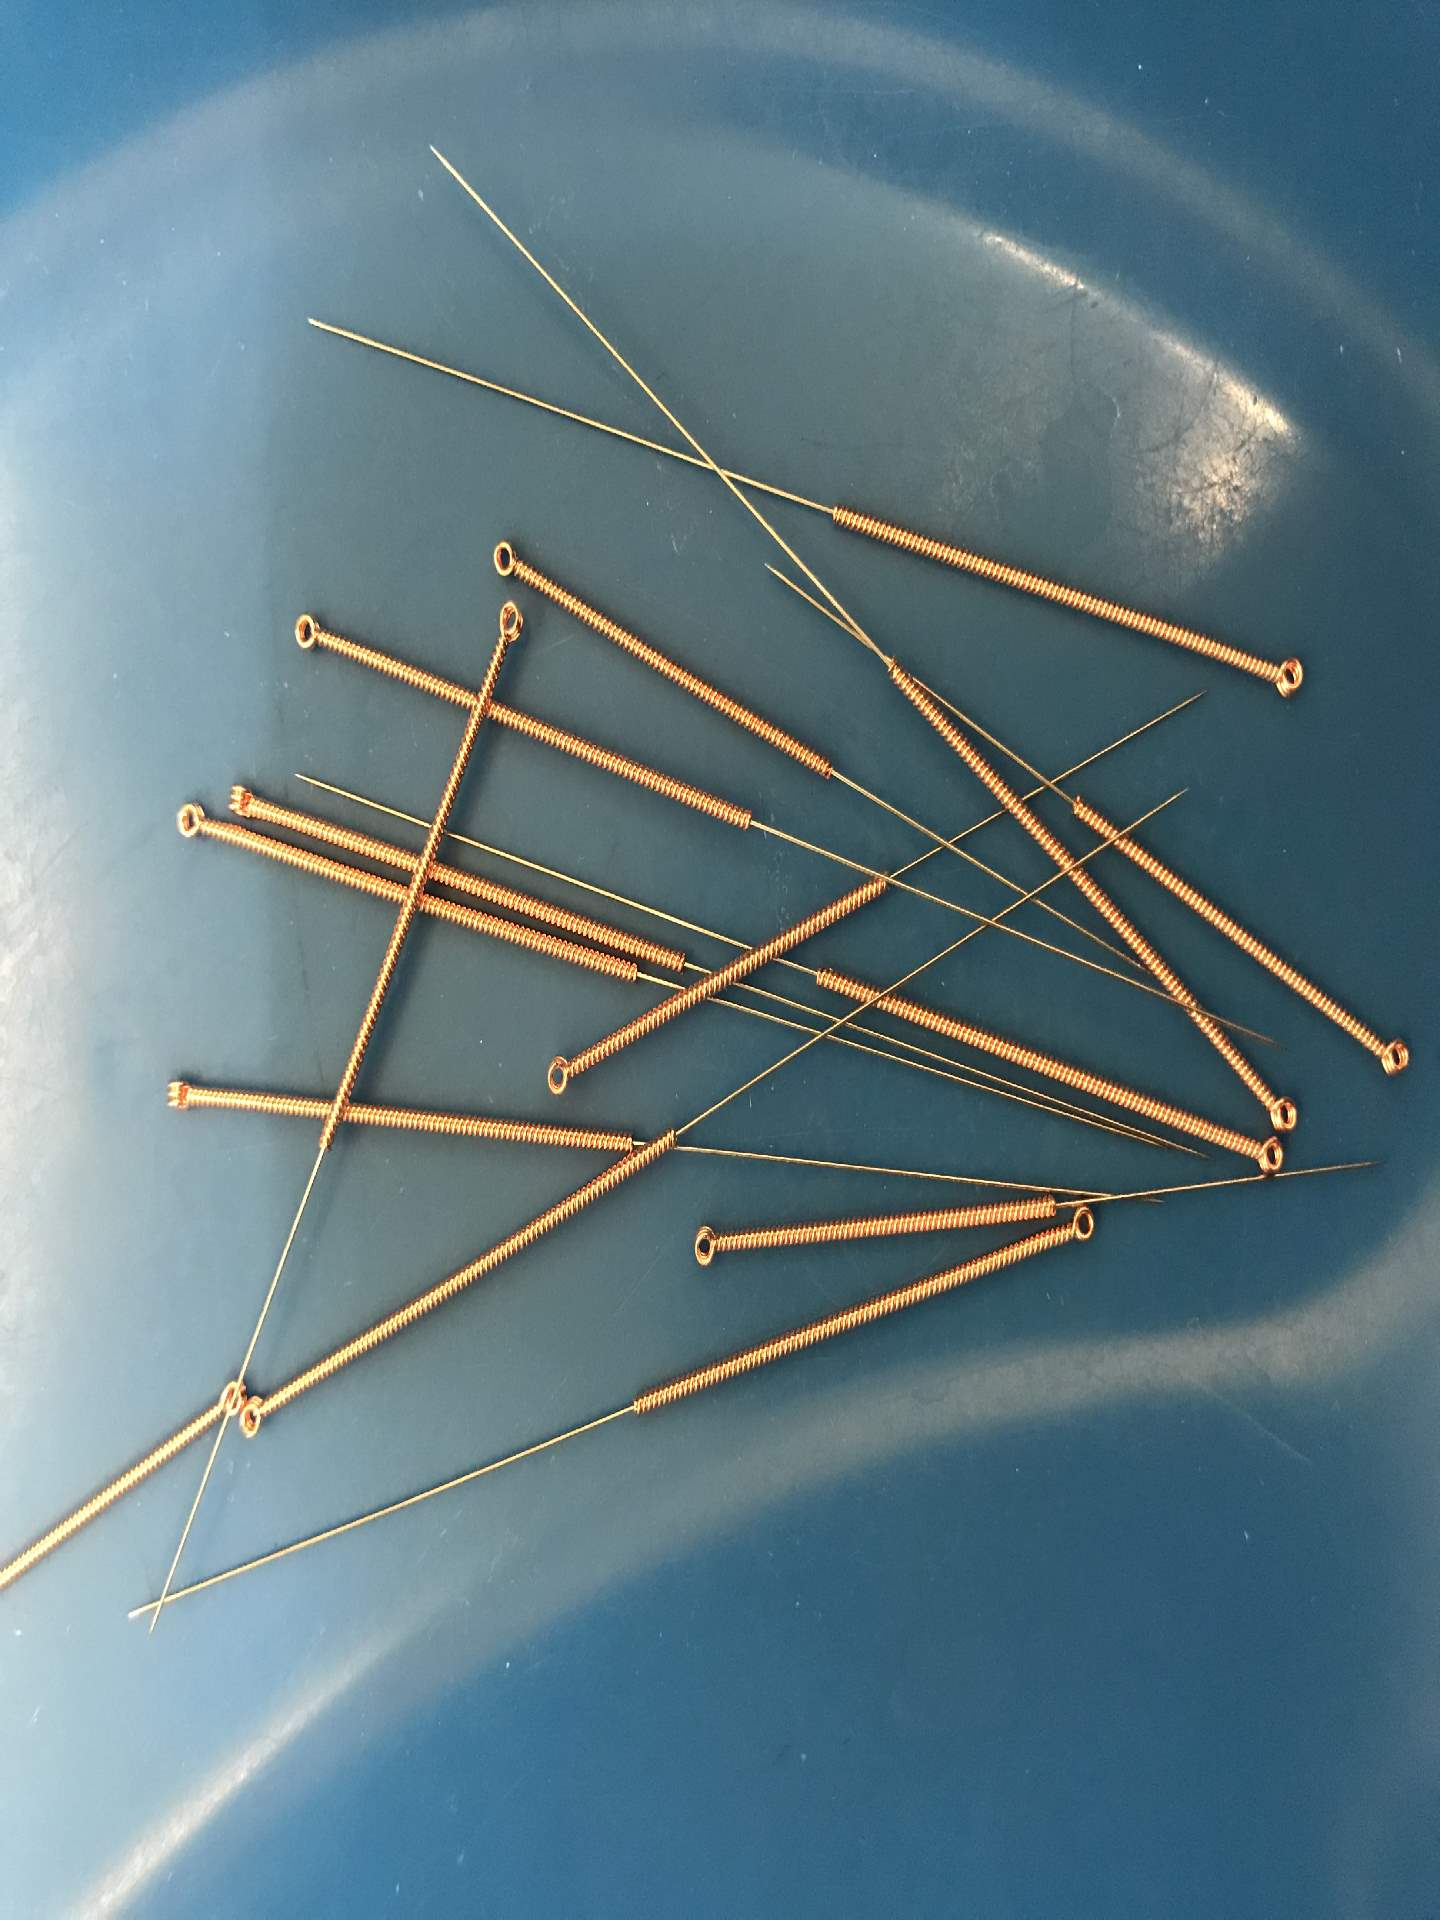needle: (1252, 641, 1314, 709), (532, 1040, 591, 1110), (1360, 1023, 1423, 1085), (478, 591, 535, 656), (166, 791, 224, 856), (681, 1212, 737, 1279), (150, 1067, 210, 1126), (215, 773, 272, 830), (1240, 1123, 1293, 1185), (476, 529, 529, 590), (283, 603, 333, 667), (1254, 1084, 1308, 1141), (1054, 1197, 1106, 1255), (237, 1392, 272, 1442), (210, 1373, 248, 1418)
